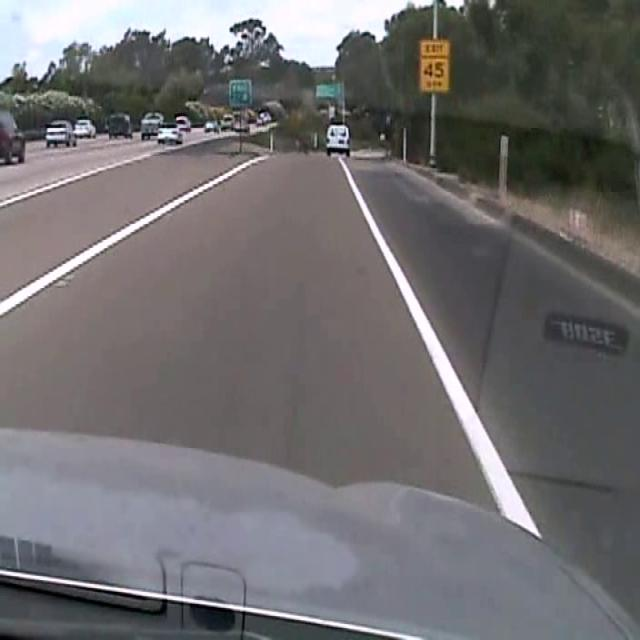speedLimit45: (419, 38, 450, 94)
